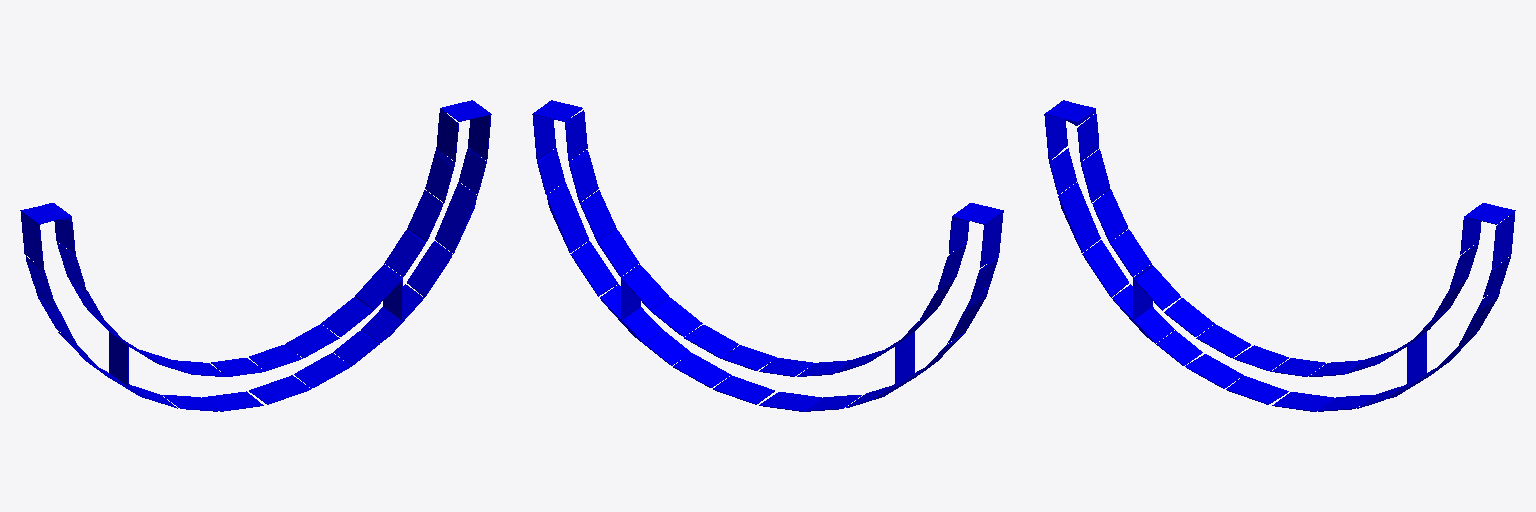
URDF robot description (2d-bowl):
<?xml version="1.0"?>
<robot name="2d-bowl">

  <link name="base_link">
    <visual>
      <geometry>
        <mesh filename="package://asset/bowl/2d-bowl-vhacd.obj" scale="1 1 1"/>
      </geometry>
      <material name="color">
        <color rgba="0 0 1 1"/> <!-- Red. a: transparency. -->
      </material>
    </visual>
    <collision>
      <geometry>
        <mesh filename="package://asset/bowl/2d-bowl-vhacd.obj" scale="1 1 1"/>
      </geometry>
    </collision>
    <inertial>
      <mass value="10"/> 
      <origin xyz="0 0 0"/> 
      <inertia ixx="1" iyy="1" izz="1"/> 
    </inertial>

  </link>

</robot>

--- Facts derived from the render (not from the file) ---
Views: 3 orthographic renders of the robot side by side, from view 1: azimuth 30°, elevation 25°; view 2: azimuth 150°, elevation 25°; view 3: azimuth 330°, elevation 25°.
Robot: 2d-bowl — 1 links, 0 joints (none); root link base_link; default pose: all joints at 0.
Visible links, largest first — view 1: base_link; view 2: base_link; view 3: base_link.
Boxes of the visible links, x1=… form: base_link: x1=20, y1=100, x2=491, y2=411; base_link: x1=532, y1=100, x2=1003, y2=411; base_link: x1=1044, y1=100, x2=1515, y2=411.
Bounding box of the posed robot: 1.4 × 0.1012 × 0.7006 m (x, y, z).
1 mesh visuals loaded from 1 distinct referenced files (1 OBJ).